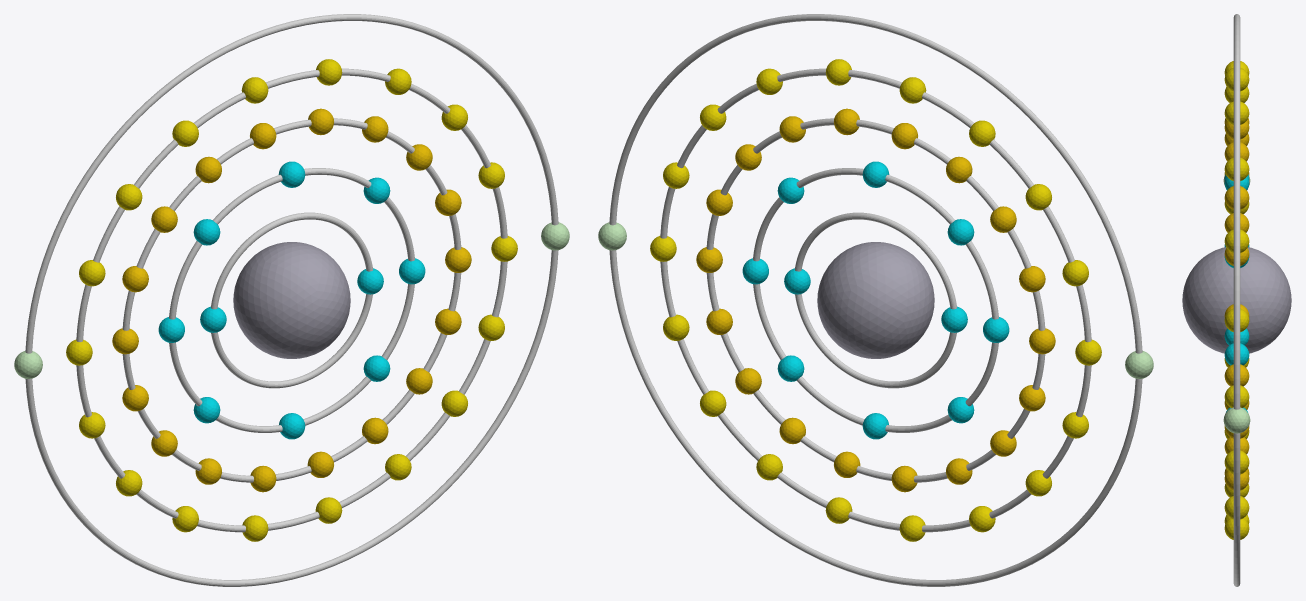
The picture shows the model from 3 angles, left to right: view 1: azimuth 30°, elevation 25°; view 2: azimuth 150°, elevation 25°; view 3: azimuth 270°, elevation 25°; orthographic projection. The views are drawn at different scales.
Parts seen in each view (by area): view 1: Camada_5, Nucleo_Cd, Camada_4, Camada_3, Camada_2, Camada_1; view 2: Camada_5, Nucleo_Cd, Camada_4, Camada_3, Camada_2, Camada_1; view 3: Nucleo_Cd, Camada_5, e5_1, e3_4, e4_17, e4_18, e4_2, e4_3, e4_5, e4_4, e4_6, e4_1 (+12 smaller).
Part boxes in pixels (x1,y1,x2,y2): Camada_5: (25, 14, 558, 586); Nucleo_Cd: (233, 242, 350, 358); Camada_4: (76, 68, 507, 532); Camada_3: (122, 118, 461, 482); Camada_2: (169, 168, 414, 432); Camada_1: (211, 212, 373, 388); Camada_5: (609, 14, 1142, 586); Nucleo_Cd: (817, 242, 934, 358); Camada_4: (660, 68, 1091, 532); Camada_3: (706, 118, 1045, 482); Camada_2: (753, 168, 998, 432); Camada_1: (794, 212, 956, 388); Nucleo_Cd: (1182, 247, 1291, 353); Camada_5: (1233, 14, 1240, 586); e5_1: (1223, 407, 1250, 433); e3_4: (1224, 186, 1249, 209); e4_17: (1224, 496, 1249, 519); e4_18: (1224, 450, 1249, 473); e4_2: (1224, 308, 1249, 331); e4_3: (1224, 229, 1249, 252); e4_5: (1224, 101, 1249, 124); e4_4: (1224, 157, 1249, 180); e4_6: (1224, 68, 1249, 91); e4_1: (1224, 385, 1249, 407).
Size of the model in its own units: 2.39 by 2.31 by 0.44.
